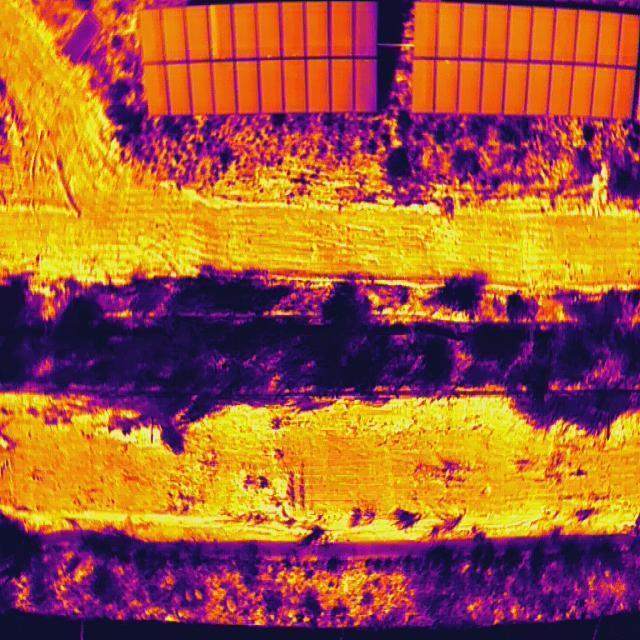diode: (207, 4, 227, 58)
